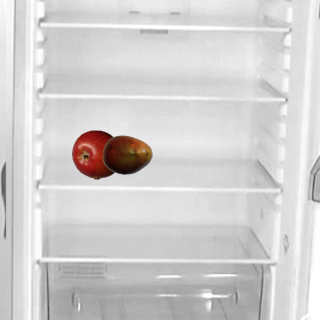Apple Braeburn: (71, 129, 121, 179)
Mango Red: (102, 129, 152, 179)
